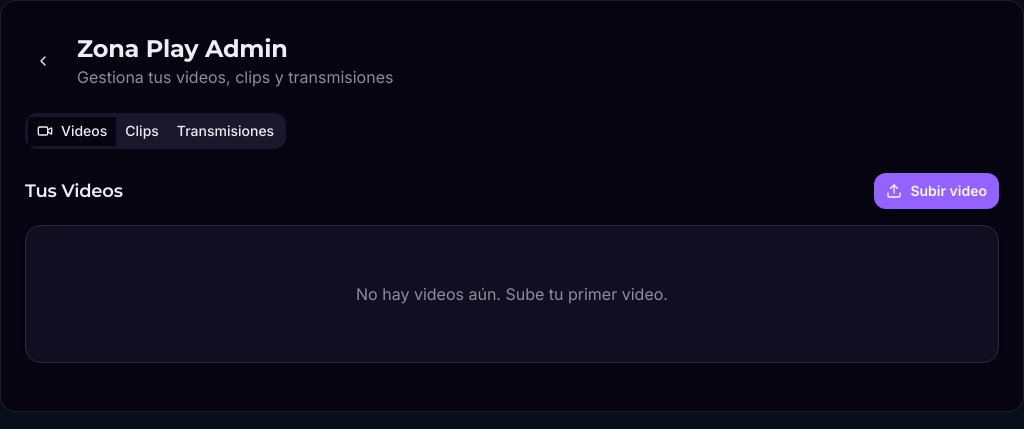
Test: AdminPage clips › lists clips with their type
Click the tab "Clips".
click(142, 131)  # box [116,116,168,146]
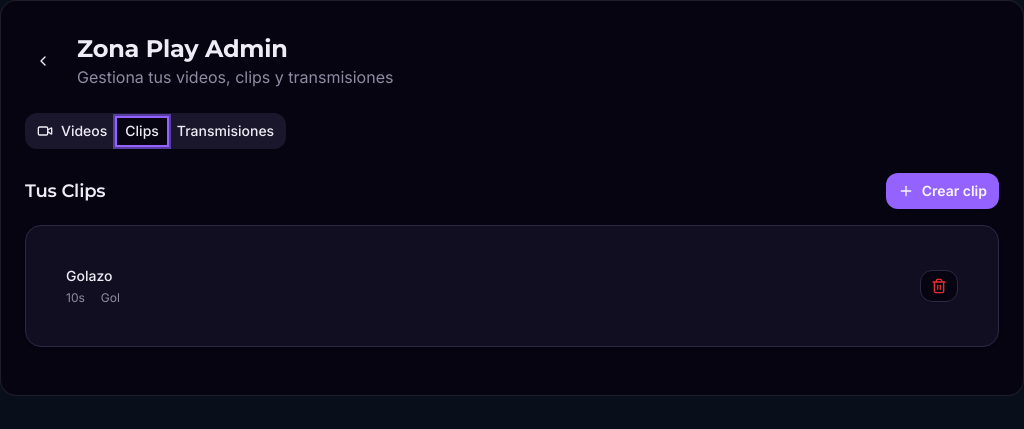
Result: the text "Golazo" is shown at [66,267,112,284]
Result: the text "Gol" is shown at [101,290,120,306]
